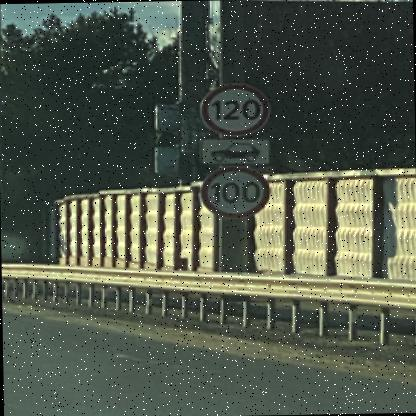speedlimit: (197, 164, 268, 216), (198, 81, 266, 135)
